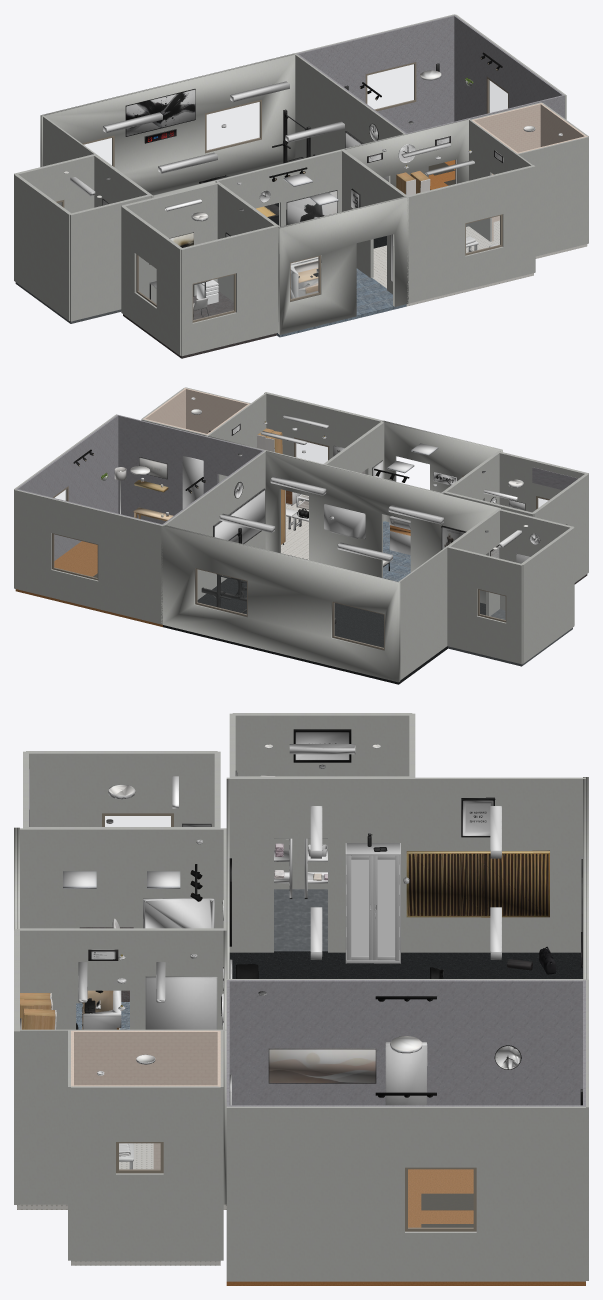
The model's file is scene_named.glb.
The picture shows the model from 3 angles, top to bottom: view 1: azimuth 30°, elevation 25°; view 2: azimuth 150°, elevation 25°; view 3: azimuth 270°, elevation 25°; orthographic projection. The views are drawn at different scales.
Visible parts, largest first — view 1: north_wall_workout_area/north_wall_workout_area/geometry_0, south_wall_exterior_locker_room/south_wall_exterior_locker_r, south_wall_exterior_reception/south_wall_exterior_reception/, north_wall_yoga_room/north_wall_yoga_room/geometry_0, south_wall_exterior_office/south_wall_exterior_office/geomet, west_wall_exterior_storage/west_wall_exterior_storage/geomet, south_wall_exterior_bathroom/south_wall_exterior_bathroom/ge, west_wall_exterior_office/west_wall_exterior_office/geometry, south_wall_exterior_storage/south_wall_exterior_storage/geom, east_wall_yoga_room/east_wall_yoga_room/geometry_0, east_wall_workout_area/east_wall_workout_area/geometry_0, north_wall_reception/north_wall_reception/geometry_0 (+31 smaller); view 2: north_wall_exterior_workout_area/north_wall_exterior_workout, north_wall_exterior_yoga_room/north_wall_exterior_yoga_room/, south_wall_workout_area/south_wall_workout_area/geometry_0, south_wall_yoga_room/south_wall_yoga_room/geometry_0, north_wall_exterior_storage/north_wall_exterior_storage/geom, east_wall_yoga_room/east_wall_yoga_room/geometry_0, west_wall_exterior_storage/west_wall_exterior_storage/geomet, west_wall_workout_area/west_wall_workout_area/geometry_0, east_wall_workout_area/east_wall_workout_area/geometry_0, south_wall_reception/south_wall_reception/geometry_0, south_wall_locker_room/south_wall_locker_room/geometry_0, floor_workout_area (+30 smaller); view 3: east_wall_exterior_yoga_room/east_wall_exterior_yoga_room/ge, west_wall_workout_area/west_wall_workout_area/geometry_0, west_wall_yoga_room/west_wall_yoga_room/geometry_0, east_wall_exterior_bathroom/east_wall_exterior_bathroom/geom, west_wall_reception/west_wall_reception/geometry_0, west_wall_office/west_wall_office/geometry_0, west_wall_locker_room/west_wall_locker_room/geometry_0, west_wall_storage/west_wall_storage/geometry_0, wall_panel_artwork_0, east_wall_locker_room/east_wall_locker_room/geometry_0, west_wall_bathroom/west_wall_bathroom/geometry_0, floor_workout_area (+24 smaller).
Part boxes in pixels (x1,y1,x2,y2): north_wall_workout_area/north_wall_workout_area/geometry_0: (41, 54, 295, 195); south_wall_exterior_locker_room/south_wall_exterior_locker_r: (407, 165, 535, 303); south_wall_exterior_reception/south_wall_exterior_reception/: (279, 197, 408, 334); north_wall_yoga_room/north_wall_yoga_room/geometry_0: (298, 15, 454, 132); south_wall_exterior_office/south_wall_exterior_office/geomet: (181, 226, 277, 356); west_wall_exterior_storage/west_wall_exterior_storage/geomet: (14, 174, 69, 320); south_wall_exterior_bathroom/south_wall_exterior_bathroom/ge: (517, 136, 588, 256); west_wall_exterior_office/west_wall_exterior_office/geometry: (121, 206, 180, 355); south_wall_exterior_storage/south_wall_exterior_storage/geom: (70, 195, 150, 321); east_wall_yoga_room/east_wall_yoga_room/geometry_0: (453, 15, 564, 121); east_wall_workout_area/east_wall_workout_area/geometry_0: (295, 54, 405, 158); north_wall_reception/north_wall_reception/geometry_0: (217, 150, 341, 226); north_wall_exterior_workout_area/north_wall_exterior_workout: (161, 525, 399, 682); north_wall_exterior_yoga_room/north_wall_exterior_yoga_room/: (14, 489, 163, 624); south_wall_workout_area/south_wall_workout_area/geometry_0: (265, 451, 500, 603); south_wall_yoga_room/south_wall_yoga_room/geometry_0: (118, 415, 262, 524); north_wall_exterior_storage/north_wall_exterior_storage/geom: (447, 547, 522, 664); east_wall_yoga_room/east_wall_yoga_room/geometry_0: (16, 414, 118, 560); west_wall_exterior_storage/west_wall_exterior_storage/geomet: (522, 527, 574, 663); west_wall_workout_area/west_wall_workout_area/geometry_0: (397, 508, 500, 680); east_wall_workout_area/east_wall_workout_area/geometry_0: (163, 450, 265, 599); south_wall_reception/south_wall_reception/geometry_0: (382, 421, 502, 522); south_wall_locker_room/south_wall_locker_room/geometry_0: (264, 392, 382, 501); floor_workout_area: (163, 553, 485, 684); east_wall_exterior_yoga_room/east_wall_exterior_yoga_room/ge: (226, 1106, 585, 1281); west_wall_workout_area/west_wall_workout_area/geometry_0: (226, 777, 585, 952); west_wall_yoga_room/west_wall_yoga_room/geometry_0: (226, 980, 585, 1105); east_wall_exterior_bathroom/east_wall_exterior_bathroom/geom: (71, 1086, 220, 1261); west_wall_reception/west_wall_reception/geometry_0: (20, 828, 226, 1003); west_wall_office/west_wall_office/geometry_0: (29, 752, 214, 927); west_wall_locker_room/west_wall_locker_room/geometry_0: (20, 929, 226, 1029); west_wall_storage/west_wall_storage/geometry_0: (233, 714, 411, 889); wall_panel_artwork_0: (406, 850, 549, 917); east_wall_locker_room/east_wall_locker_room/geometry_0: (20, 1029, 226, 1204); west_wall_bathroom/west_wall_bathroom/geometry_0: (74, 1030, 217, 1169); floor_workout_area: (229, 951, 582, 978).
Bounding box in the file's own units: 15.6 × 3.3 × 9.6.
173 materials, 150 textured.
